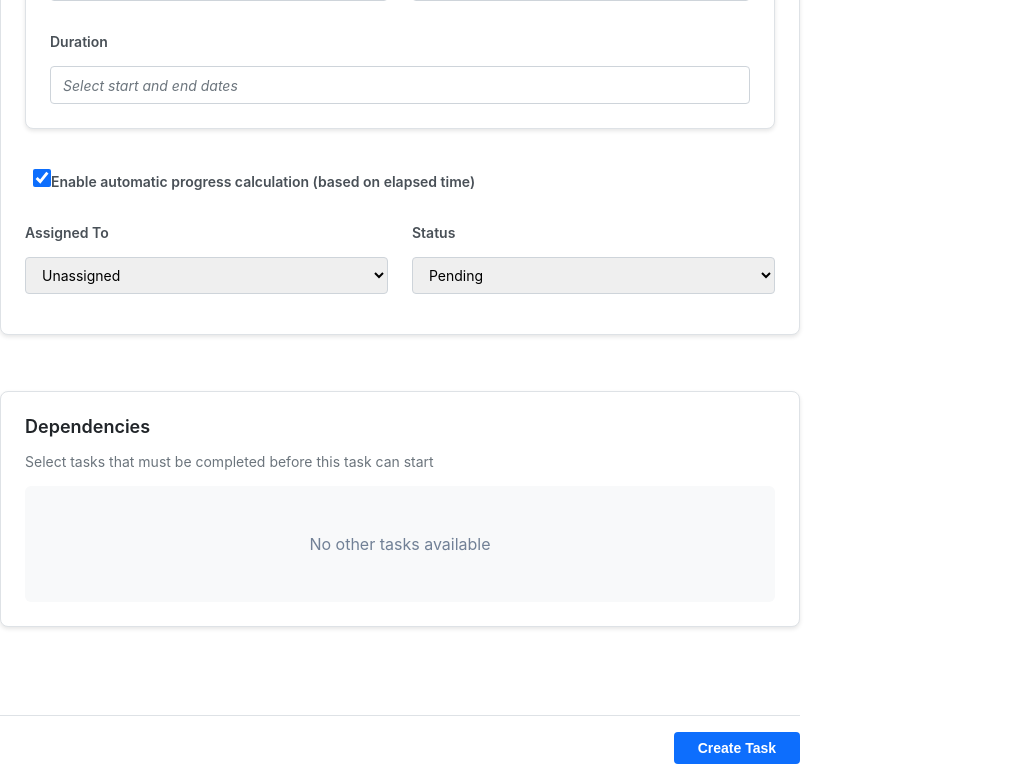
Scenario: TaskForm Date Validation › should prevent submission when required fields are missing
(page scrolled)
# Submit form without filling fields
What coordinates should you click on to do the following:
click the button "Create Task"
I would click on:
 (737, 748)
Its box is [674,732,800,763].
(page scrolled)
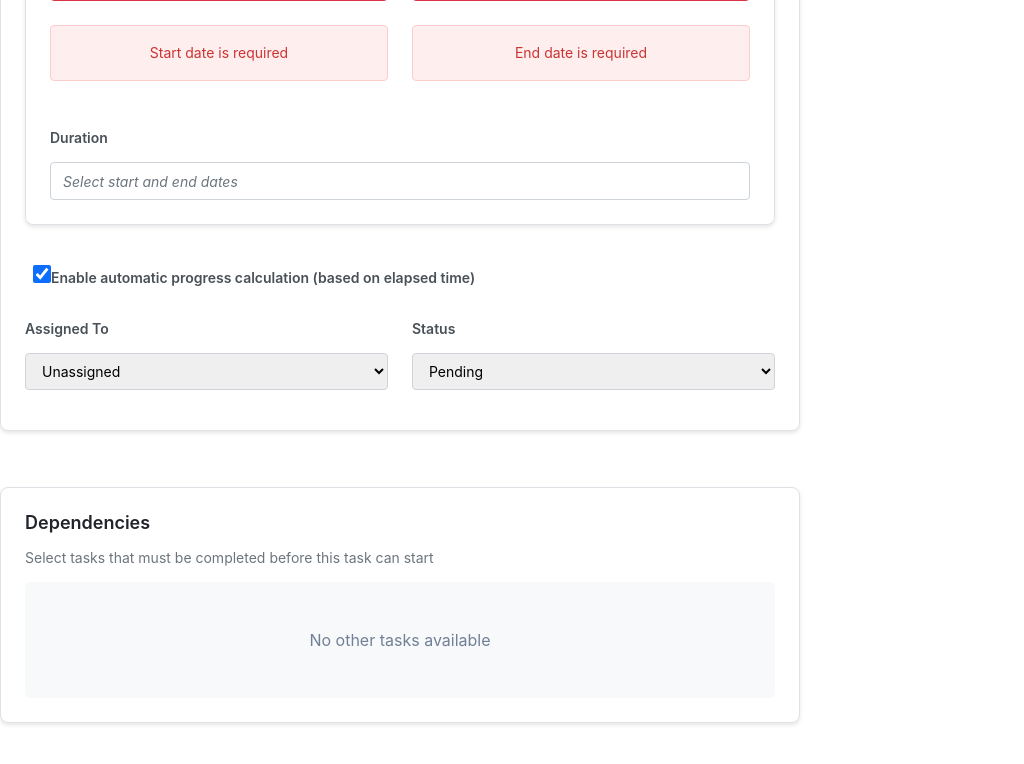
Check: the text "Start date is required" is shown, box [50,25,388,81]
Check: the text "End date is required" is shown, box [412,25,750,81]
